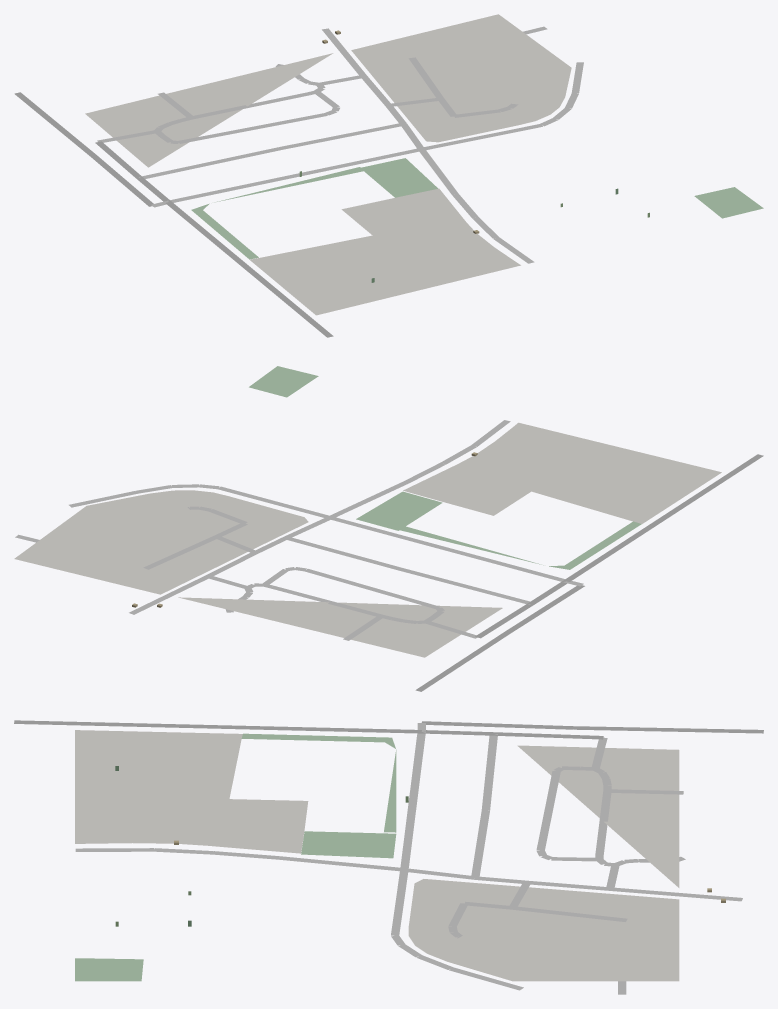
3 renders of one model, top to bottom at view 1: azimuth 30°, elevation 25°; view 2: azimuth 150°, elevation 25°; view 3: azimuth 270°, elevation 25°, orthographic. The views are drawn at different scales.
Size of the model in its own units: 528 by 8.76 by 620.
